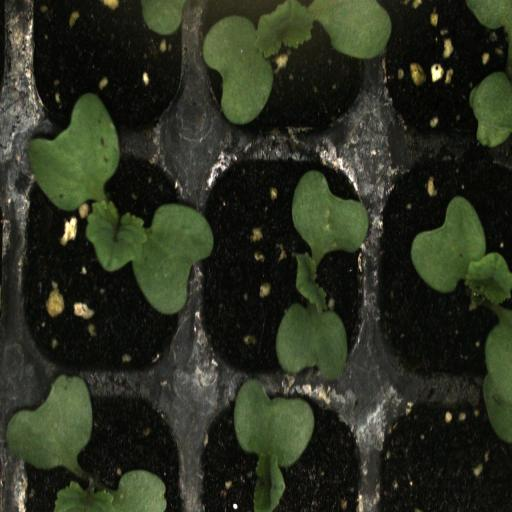seedling: (192, 146, 370, 380), (15, 148, 193, 380), (371, 143, 512, 381), (191, 0, 375, 143), (189, 375, 367, 512), (15, 377, 188, 512)
